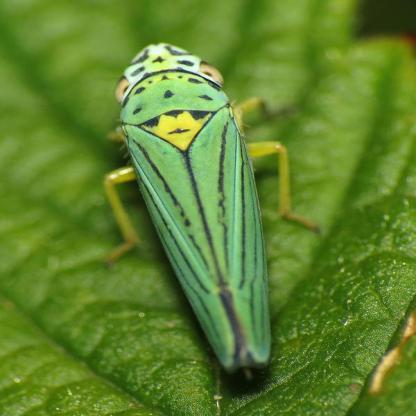green-leafhopper: (102, 40, 314, 379)
